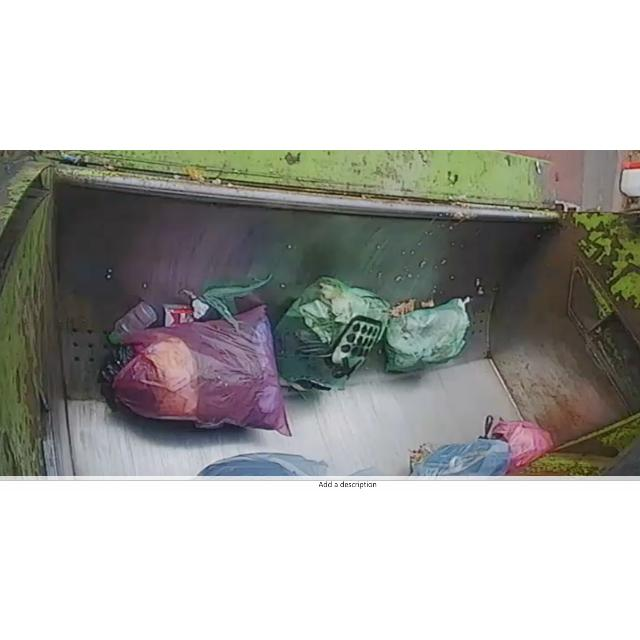general_trashbag: (274, 275, 390, 388), (385, 296, 470, 370)
other_trashbag: (112, 304, 290, 434), (412, 438, 510, 475), (491, 420, 554, 466)
